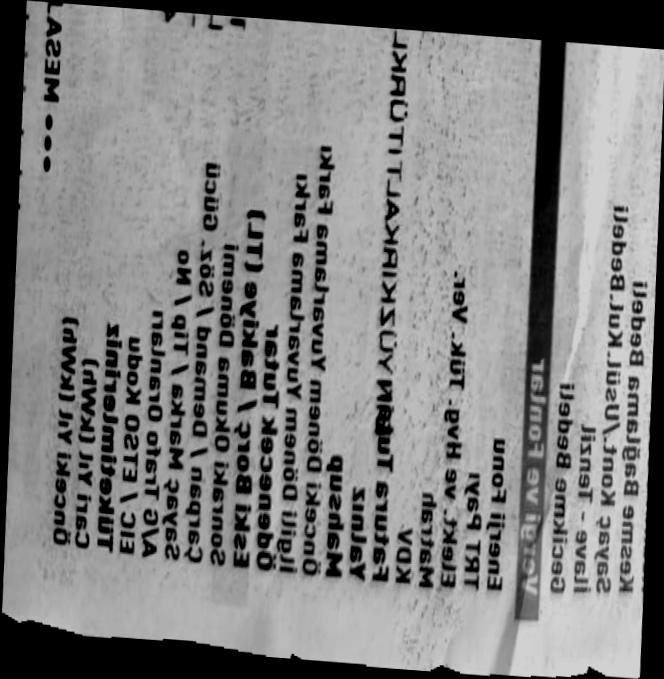electricity-bill: (1, 0, 664, 679)
